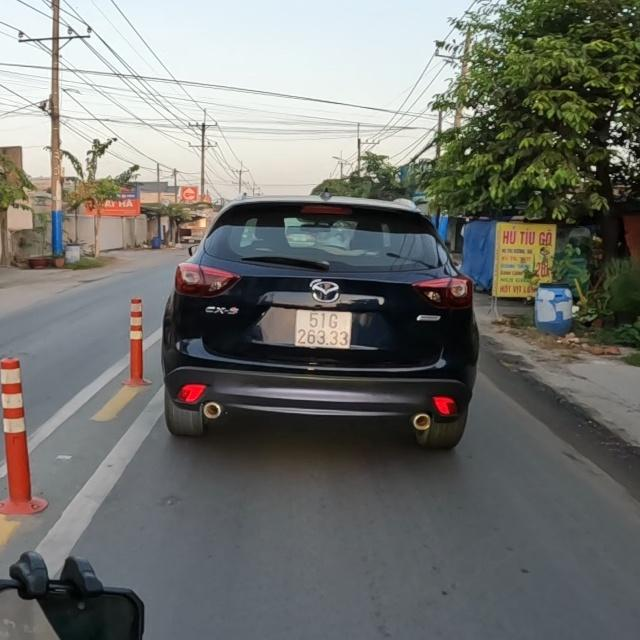license-plate: (291, 306, 355, 352)
